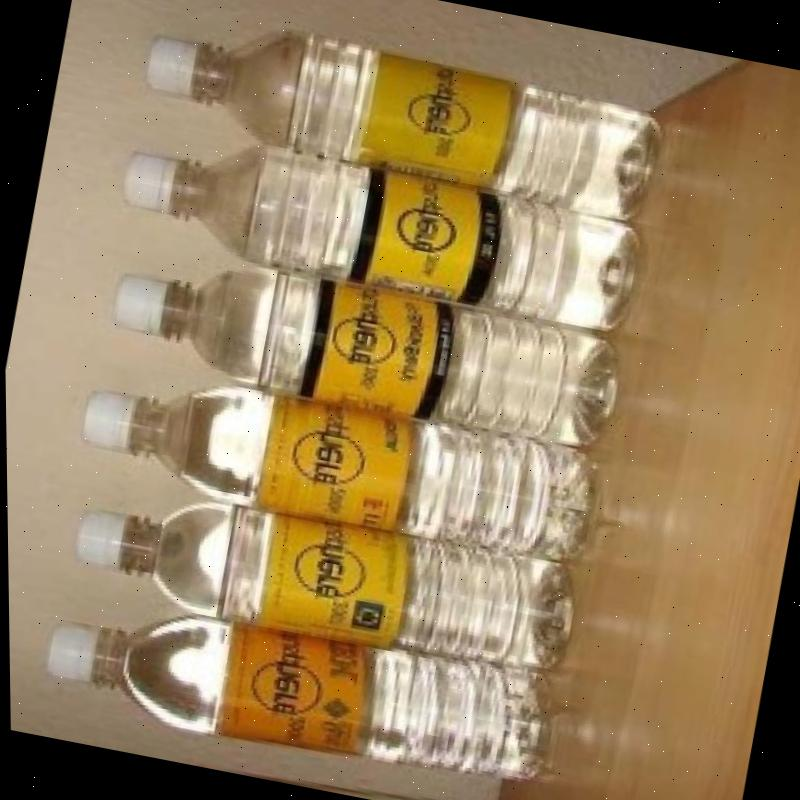botella: (66, 351, 614, 587), (130, 1, 674, 237), (106, 118, 648, 341), (101, 239, 624, 462), (36, 592, 574, 794), (58, 478, 578, 683)
